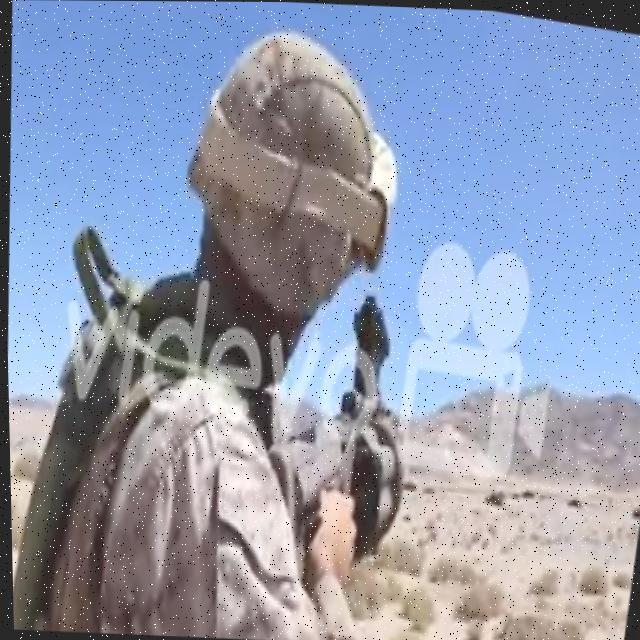rocket: (265, 301, 428, 581)
